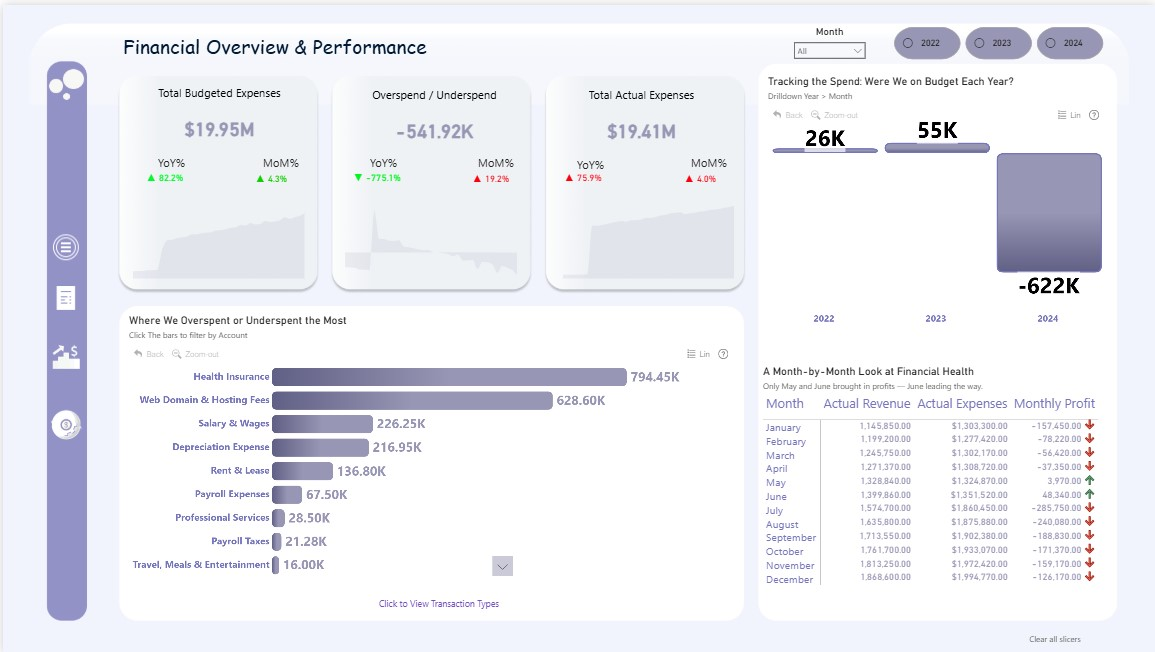

The dashboard page shown, as its layout file describes it:
{"tool":"powerbi","page":{"name":"Overview","canvas":[1920,1080],"ordinal":1},"visuals":[{"type":"cardVisual","title":"How Much We Overspent or Saved","fields":{"Data":["Matric.Expense Variance"]},"box":[561.7,116.7,315,131.7],"z":0},{"type":"cardVisual","title":"What We Planned to Spend","fields":{"Data":["Matric.Total Budgeted Expenses"]},"box":[203.3,113.3,315,131.7],"z":1000},{"type":"ZoomChartsFacetChartPaidE77E4ED357DC402ABA005987437CF500","title":"Tracking the Spend: Were We on Budget Each Year?","fields":{"Category":["DateTable.Year","DateTable.Month Short"],"Values1":["Matrix.Expense Variance"]},"box":[1270,116.7,570,443.3],"z":2000},{"type":"advancedSlicerVisual","fields":{"Values":["DateTable.Date.Variation.Date Hierarchy.Year"]},"box":[1480,32,360,64],"z":3000},{"type":"ZoomChartsDrillDownComboBarProE77E4ED357DC402ABA005987437CF8","title":"Where We Overspent or Underspent the Most","fields":{"Category":["ActualsVsBudget.Account"],"Values1":["Matrix.Expense Variance"]},"box":[205,515,1016.7,441.7],"z":4000},{"type":"slicer","title":"Month","fields":{"Values":["DateTable.Date.Variation.Date Hierarchy.Month"]},"box":[1308.8,32.5,138.8,56.2],"z":5000},{"type":"pivotTable","title":"A Month-by-Month Look at Financial Health","fields":{"Values":["Matrix.Actual Income","Matrix.Total Actual Expenses","Matrix.Monthly Profit"],"Rows":["DateTable.Date.Variation.Date Hierarchy.Month"]},"box":[1261.7,600,605,423.3],"z":6000},{"type":"lineChart","fields":{"Y":["Matric.Total Actual Expenses"],"Category":["DateTable.Date.Variation.Date Hierarchy.Year","DateTable.Date.Variation.Date Hierarchy.Month"]},"box":[918.3,311.7,315,150],"z":7000},{"type":"lineChart","fields":{"Y":["Matric.Expense Variance"],"Category":["DateTable.Date.Variation.Date Hierarchy.Year","DateTable.Date.Variation.Date Hierarchy.Month"]},"box":[555,311.7,316.7,150],"z":8000},{"type":"lineChart","fields":{"Y":["Matric.Total Budgeted Expenses"],"Category":["DateTable.Date.Variation.Date Hierarchy.Year"]},"box":[202,312,316,150],"z":9000},{"type":"cardVisual","fields":{"Data":["Matric.Expenses YoY Indicator"]},"box":[918.8,162.5,212.5,240],"z":10000},{"type":"cardVisual","fields":{"Data":["Matric.Expenses MOM Indicator"]},"box":[404,228,134,112],"z":11000},{"type":"cardVisual","fields":{"Data":["Matric.Total Actual Expenses"]},"box":[906.7,116.7,315,131.7],"z":12000},{"type":"cardVisual","fields":{"Data":["Matric.Expenses Variance MoM Indicator"]},"box":[765,210,153.3,150],"z":13000},{"type":"cardVisual","fields":{"Data":["Matric.Expenses Variance Yoy Indicator"]},"box":[566.7,221.7,146.7,125],"z":14000},{"type":"cardVisual","fields":{"Data":["Matric.Expenses Mom Indicator"]},"box":[1118,210,130,150],"z":15000},{"type":"cardVisual","fields":{"Data":["Matric.Total Budgeted Expmeses YoY Indicator"]},"box":[221.7,208.3,151.7,150],"z":16000},{"type":"textbox","box":[952,248.6,68,48],"z":17000},{"type":"textbox","box":[253.7,244.6,68,48],"z":18000},{"type":"textbox","box":[428,244.6,85.1,48],"z":19000},{"type":"textbox","box":[786.3,244.6,78.9,48],"z":20000},{"type":"textbox","box":[606.9,244.6,68,48],"z":21000},{"type":"textbox","box":[1141.7,244.6,80.6,48],"z":22000},{"type":"image","box":[78.3,461.7,53.3,53.3],"z":23000},{"type":"image","box":[73.3,368.3,63.3,70],"z":24000},{"type":"image","box":[74,540,64,92],"z":25000},{"type":"image","box":[74,636,64,126],"z":26000},{"type":"actionButton","box":[513.3,970,426.7,53.3],"z":29001},{"type":"actionButton","box":[1653.3,1030,200,50],"z":29002},{"type":"textbox","box":[195,41.7,570,75],"z":29003}]}

Visuals, with their boxes on the page's 1920x1080 design canvas (x1, y1, x2, y2). These are canvas units, not pixel positions in the 1155x652 screenshot, which may show the page scaled, cropped or inside an application window:
"How Much We Overspent or Saved" cardVisual: {"x1": 562, "y1": 117, "x2": 877, "y2": 248}
"What We Planned to Spend" cardVisual: {"x1": 203, "y1": 113, "x2": 518, "y2": 245}
"Tracking the Spend: Were We on Budget Each Year?" ZoomChartsFacetChartPaidE77E4ED357DC402ABA005987437CF500: {"x1": 1270, "y1": 117, "x2": 1840, "y2": 560}
advancedSlicerVisual - DateTable.Date.Variation.Date Hierarchy.Year: {"x1": 1480, "y1": 32, "x2": 1840, "y2": 96}
"Where We Overspent or Underspent the Most" ZoomChartsDrillDownComboBarProE77E4ED357DC402ABA005987437CF8: {"x1": 205, "y1": 515, "x2": 1222, "y2": 957}
"Month" slicer: {"x1": 1309, "y1": 32, "x2": 1448, "y2": 89}
"A Month-by-Month Look at Financial Health" pivotTable: {"x1": 1262, "y1": 600, "x2": 1867, "y2": 1023}
lineChart - Matric.Total Actual Expenses x DateTable.Date.Variation.Date Hierarchy.Year: {"x1": 918, "y1": 312, "x2": 1233, "y2": 462}
lineChart - Matric.Expense Variance x DateTable.Date.Variation.Date Hierarchy.Year: {"x1": 555, "y1": 312, "x2": 872, "y2": 462}
lineChart - Matric.Total Budgeted Expenses x DateTable.Date.Variation.Date Hierarchy.Year: {"x1": 202, "y1": 312, "x2": 518, "y2": 462}
cardVisual - Matric.Expenses YoY Indicator: {"x1": 919, "y1": 162, "x2": 1131, "y2": 402}
cardVisual - Matric.Expenses MOM Indicator: {"x1": 404, "y1": 228, "x2": 538, "y2": 340}
cardVisual - Matric.Total Actual Expenses: {"x1": 907, "y1": 117, "x2": 1222, "y2": 248}
cardVisual - Matric.Expenses Variance MoM Indicator: {"x1": 765, "y1": 210, "x2": 918, "y2": 360}
cardVisual - Matric.Expenses Variance Yoy Indicator: {"x1": 567, "y1": 222, "x2": 713, "y2": 347}
cardVisual - Matric.Expenses Mom Indicator: {"x1": 1118, "y1": 210, "x2": 1248, "y2": 360}
cardVisual - Matric.Total Budgeted Expmeses YoY Indicator: {"x1": 222, "y1": 208, "x2": 373, "y2": 358}
textbox: {"x1": 952, "y1": 249, "x2": 1020, "y2": 297}
textbox: {"x1": 254, "y1": 245, "x2": 322, "y2": 293}
textbox: {"x1": 428, "y1": 245, "x2": 513, "y2": 293}
textbox: {"x1": 786, "y1": 245, "x2": 865, "y2": 293}
textbox: {"x1": 607, "y1": 245, "x2": 675, "y2": 293}
textbox: {"x1": 1142, "y1": 245, "x2": 1222, "y2": 293}
image: {"x1": 78, "y1": 462, "x2": 132, "y2": 515}
image: {"x1": 73, "y1": 368, "x2": 137, "y2": 438}
image: {"x1": 74, "y1": 540, "x2": 138, "y2": 632}
image: {"x1": 74, "y1": 636, "x2": 138, "y2": 762}
actionButton: {"x1": 513, "y1": 970, "x2": 940, "y2": 1023}
actionButton: {"x1": 1653, "y1": 1030, "x2": 1853, "y2": 1080}
textbox: {"x1": 195, "y1": 42, "x2": 765, "y2": 117}
